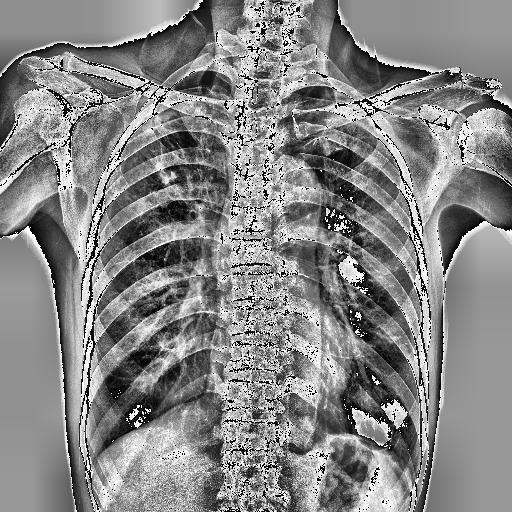0- Aortic enlargement: (262, 156, 328, 230)
11- Pleural thickening: (143, 95, 183, 137)
13- Pulmonary fibrosis: (148, 112, 211, 212), (149, 117, 193, 189), (150, 110, 184, 187), (386, 398, 402, 456), (386, 406, 402, 454)
